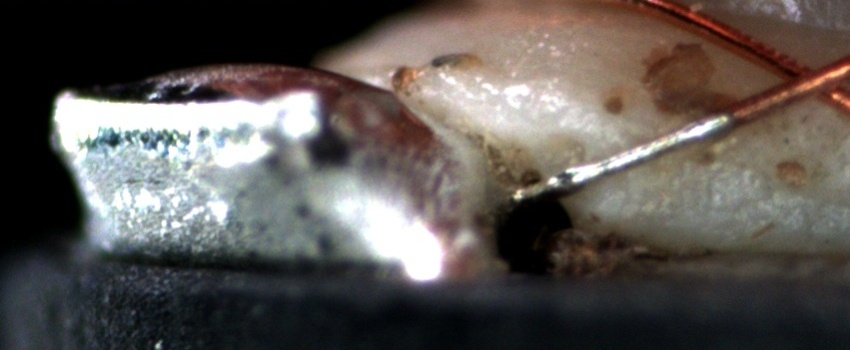CL: (761, 47, 849, 109)
TS: (513, 111, 736, 206)
TTCW: (527, 86, 736, 202)
